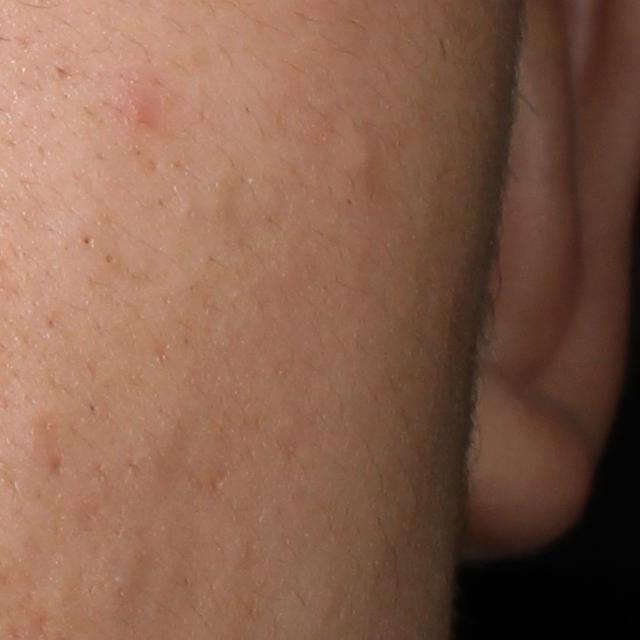comedo: (343, 134, 380, 176), (71, 227, 99, 250), (94, 250, 120, 274)
papule: (110, 77, 155, 129)
